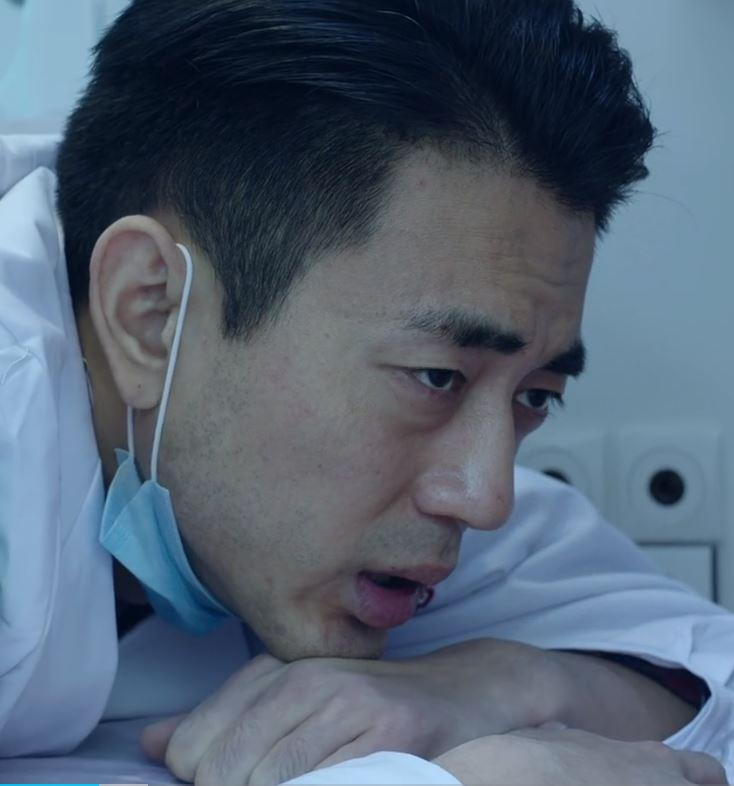WRONG: (263, 217, 591, 679)
